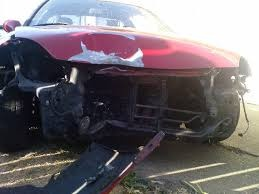Dent: (70, 37, 175, 63)
Smashed: (4, 34, 244, 149)
